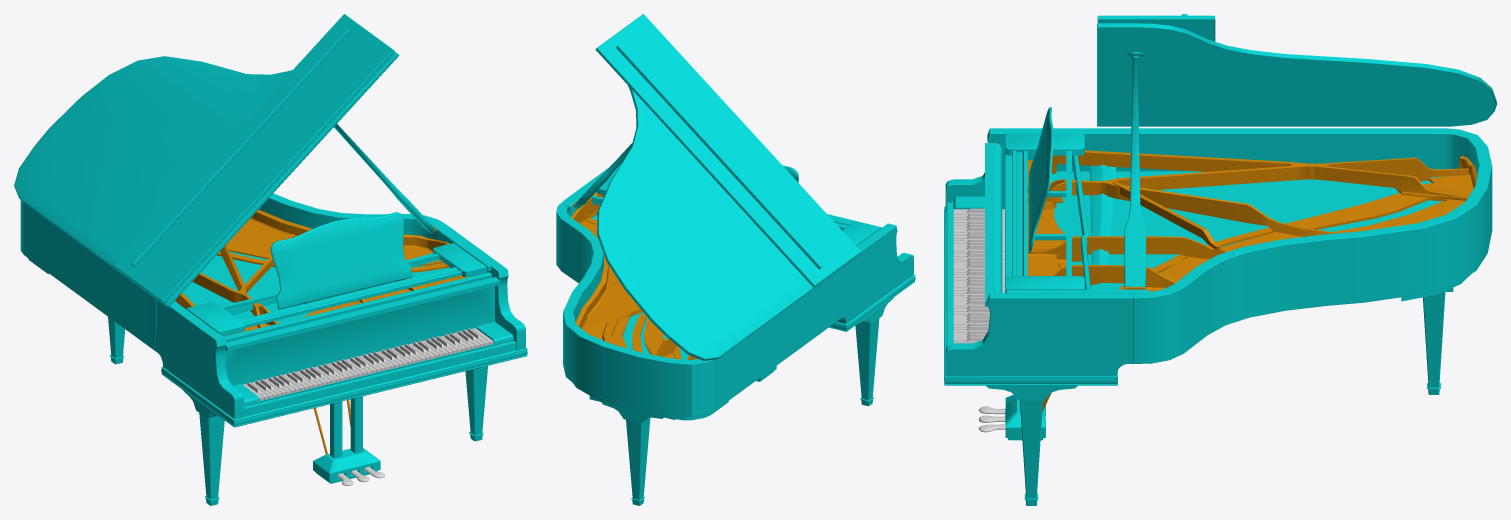
File: Piano.fbx
The picture shows the model from 3 angles, left to right: view 1: azimuth 30°, elevation 25°; view 2: azimuth 150°, elevation 25°; view 3: azimuth 270°, elevation 25°; orthographic projection. The views are drawn at different scales.
Visible parts, largest first — view 1: Piano; view 2: Piano; view 3: Piano.
Boxes of the visible parts, x1,y1,x2,y2 form: Piano: (14,14,527,505); Piano: (556,14,915,505); Piano: (944,14,1496,505).
Bounding box in the file's own units: 209 × 254 × 279.
